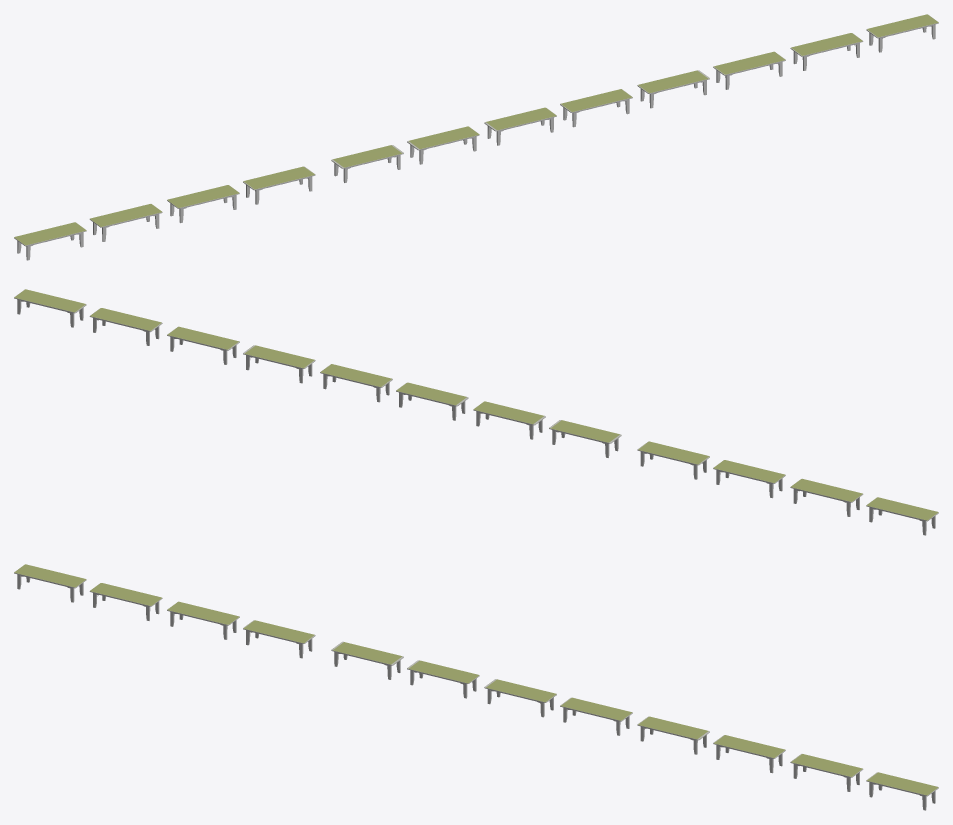
Rendered from boothEast.glb.
3 renders of one model, top to bottom at view 1: azimuth 30°, elevation 25°; view 2: azimuth 150°, elevation 25°; view 3: azimuth 330°, elevation 25°, orthographic.
Visible parts, largest first — view 1: old_table.014; view 2: old_table.014; view 3: old_table.014.
Part boxes in pixels (x1=…): old_table.014: x1=14, y1=14, x2=938, y2=260; old_table.014: x1=14, y1=289, x2=938, y2=535; old_table.014: x1=14, y1=564, x2=938, y2=810.
Bounding box in the file's own units: 34.42 × 0.5846 × 0.7613.
